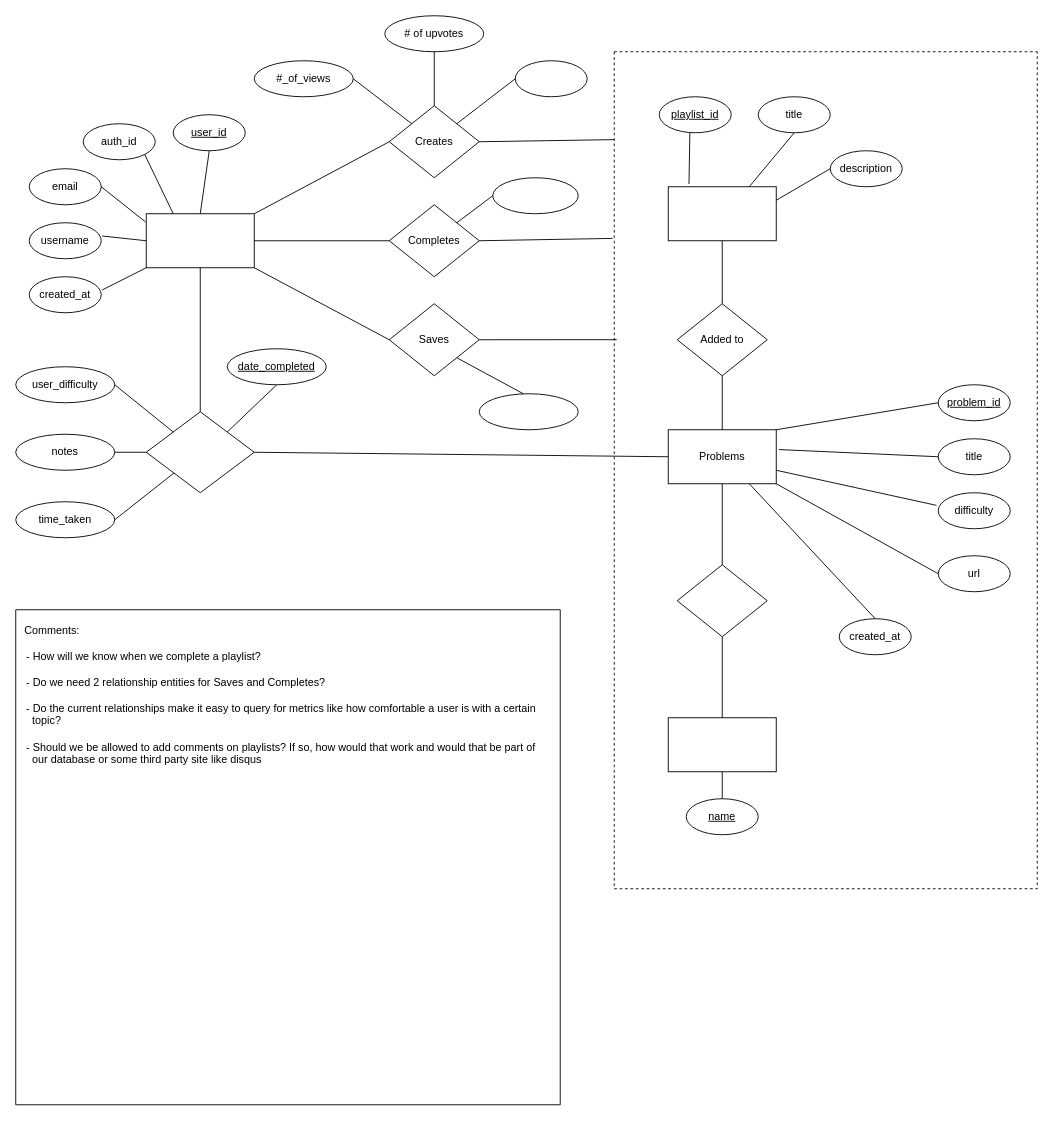
The diagram is 1053 pixels wide and 1121 high, and some of its shapes have lost their labels. The shapes that lost their labels are listed below. From the top down, each one's box as (x1, y1, x2, y2) in pixels, then its label:
(514, 60, 587, 97): date_created
(492, 177, 578, 214): date_comleted
(667, 186, 776, 241): Playlists
(145, 213, 254, 268): Users
(478, 393, 578, 430): date_started
(145, 411, 254, 493): Completed
(676, 564, 767, 637): Part of
(667, 717, 776, 772): Concepts
